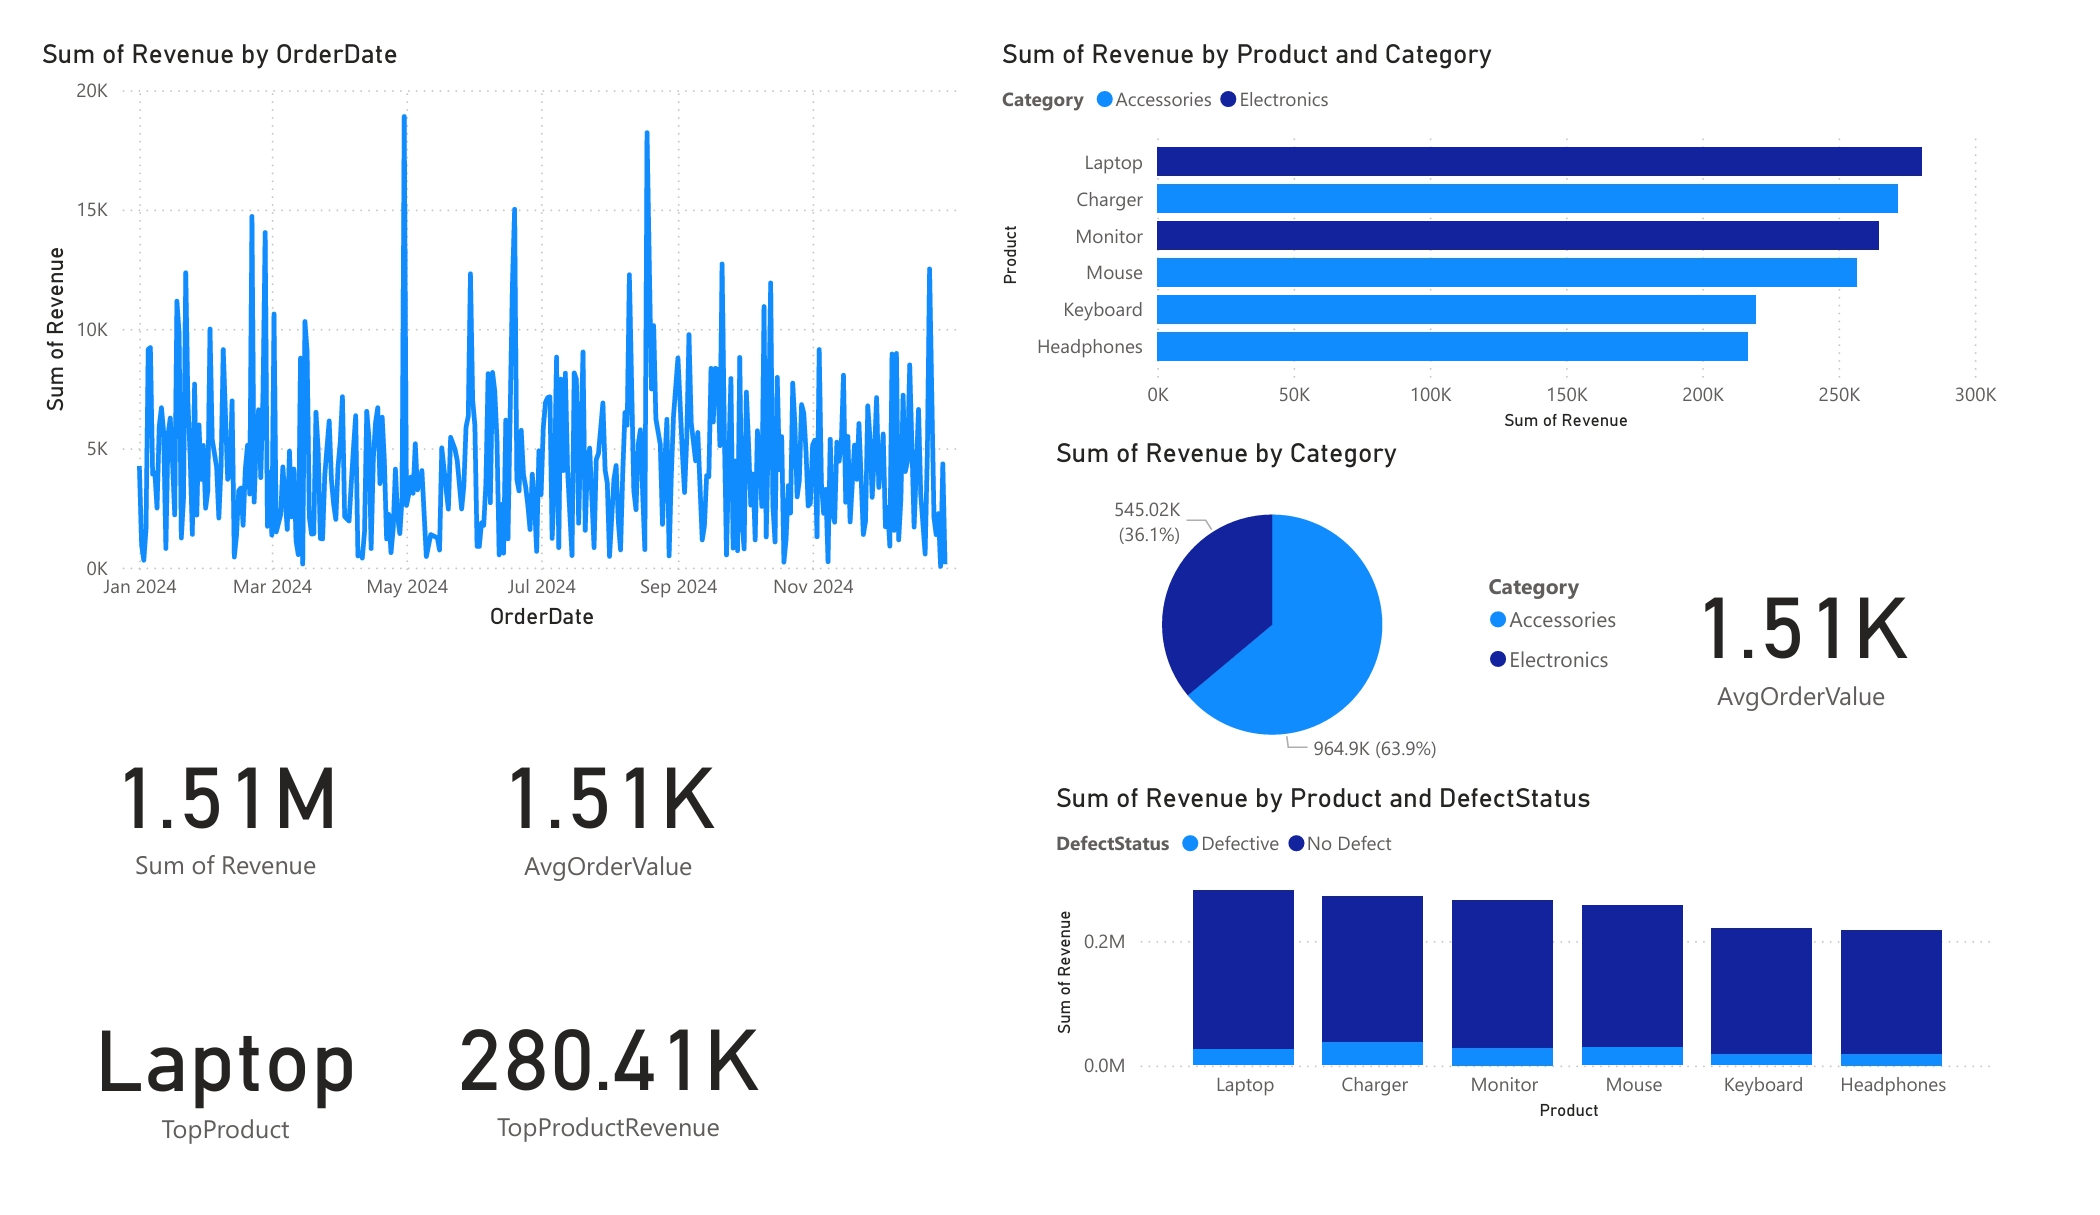

The page's visual inventory and layout, read from the dashboard file:
{"tool":"powerbi","page":{"name":"Page 1","canvas":[1280,720],"ordinal":0},"visuals":[{"type":"lineChart","fields":{"Y":["Sum(salesdb sales_data.Revenue)"],"Category":["salesdb sales_data.OrderDate"]},"box":[0,0,606,378],"z":0},{"type":"barChart","fields":{"Category":["salesdb sales_data.Product"],"Y":["Sum(salesdb sales_data.Revenue)"],"Series":["salesdb sales_data.Category"]},"box":[606,0,638,252],"z":1000},{"type":"pieChart","fields":{"Y":["Sum(salesdb sales_data.Revenue)"],"Category":["salesdb sales_data.Category"]},"box":[640,251.7,373.3,218.3],"z":2000},{"type":"columnChart","fields":{"Y":["Sum(salesdb sales_data.Revenue)"],"Series":["salesdb sales_data.DefectStatus"],"Category":["salesdb sales_data.Product"]},"box":[640,470,604,218],"z":3000},{"type":"card","fields":{"Values":["Sum(salesdb sales_data.Revenue)"]},"box":[0,376.7,241.7,213.3],"z":4000},{"type":"card","fields":{"Values":["salesdb sales_data.AvgOrderValue"]},"box":[241.7,378.3,241.7,211.7],"z":5000},{"type":"card","fields":{"Values":["salesdb sales_data.Measure"]},"box":[1013.3,283.3,205,186.7],"z":6000},{"type":"card","fields":{"Values":["salesdb sales_data.TopProduct"]},"box":[0,578.3,241.7,143.3],"z":6001},{"type":"card","fields":{"Values":["salesdb sales_data.TopProductRevenue"]},"box":[241.7,578.3,241.7,141.7],"z":6002}]}

Visuals, with their boxes in screenshot pixels (x1, y1, x2, y2), scaled from the page's 1280x720 canvas onto the 2100x1215 screenshot:
lineChart - Sum(salesdb sales_data.Revenue) x salesdb sales_data.OrderDate: box=[0, 0, 994, 638]
barChart - salesdb sales_data.Product x Sum(salesdb sales_data.Revenue): box=[994, 0, 2041, 425]
pieChart - Sum(salesdb sales_data.Revenue) x salesdb sales_data.Category: box=[1050, 425, 1662, 793]
columnChart - Sum(salesdb sales_data.Revenue) x salesdb sales_data.DefectStatus: box=[1050, 793, 2041, 1161]
card - Sum(salesdb sales_data.Revenue): box=[0, 636, 397, 996]
card - salesdb sales_data.AvgOrderValue: box=[397, 638, 793, 996]
card - salesdb sales_data.Measure: box=[1662, 478, 1999, 793]
card - salesdb sales_data.TopProduct: box=[0, 976, 397, 1214]
card - salesdb sales_data.TopProductRevenue: box=[397, 976, 793, 1214]
